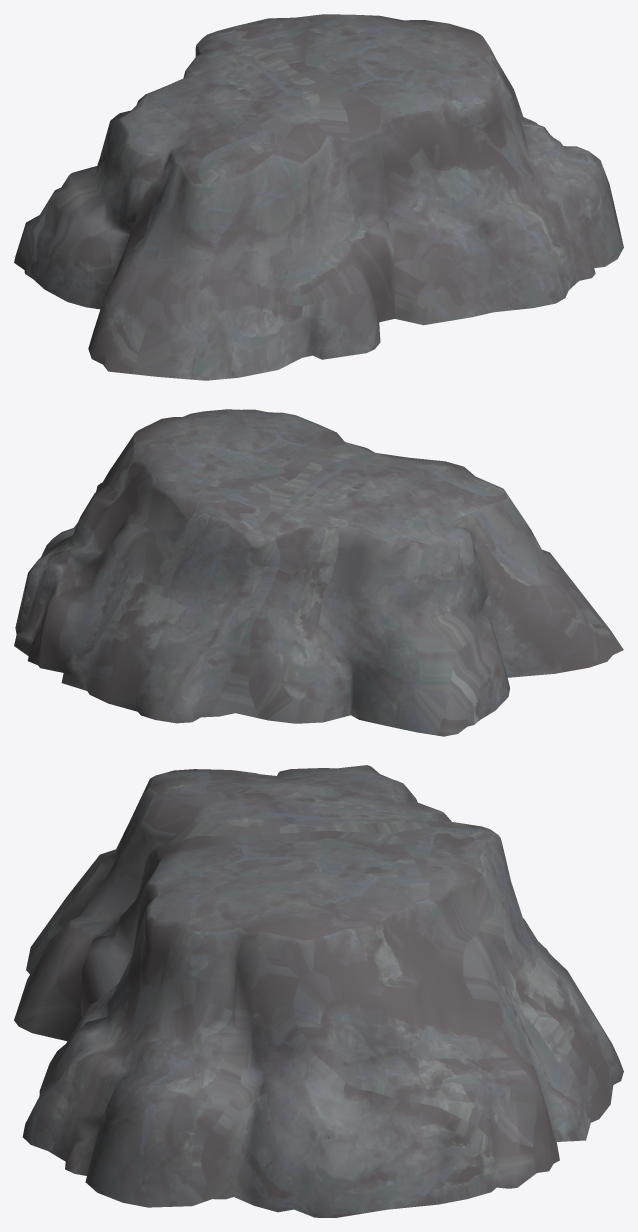
Rendered from stone-4.fbx.
3 renders of one model, top to bottom at view 1: azimuth 30°, elevation 25°; view 2: azimuth 150°, elevation 25°; view 3: azimuth 270°, elevation 25°, orthographic. The views are drawn at different scales.
Visible parts, largest first — view 1: Area_Ly_Stone_CSPY_Full_M_11_Lod0; view 2: Area_Ly_Stone_CSPY_Full_M_11_Lod0; view 3: Area_Ly_Stone_CSPY_Full_M_11_Lod0.
Part boxes in pixels (bbox=[...]): Area_Ly_Stone_CSPY_Full_M_11_Lod0: bbox=[14, 14, 623, 380]; Area_Ly_Stone_CSPY_Full_M_11_Lod0: bbox=[14, 409, 623, 736]; Area_Ly_Stone_CSPY_Full_M_11_Lod0: bbox=[14, 765, 623, 1217].
Size of the model in its own units: 4875 by 1609 by 3844.
1 material, 1 textured.
